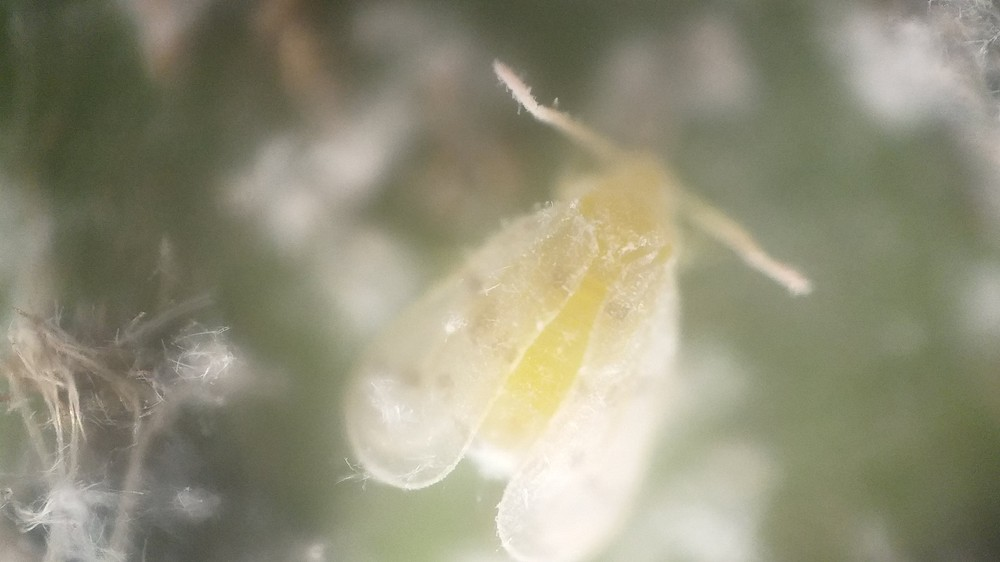Mosca Blanca: (329, 50, 819, 556)
